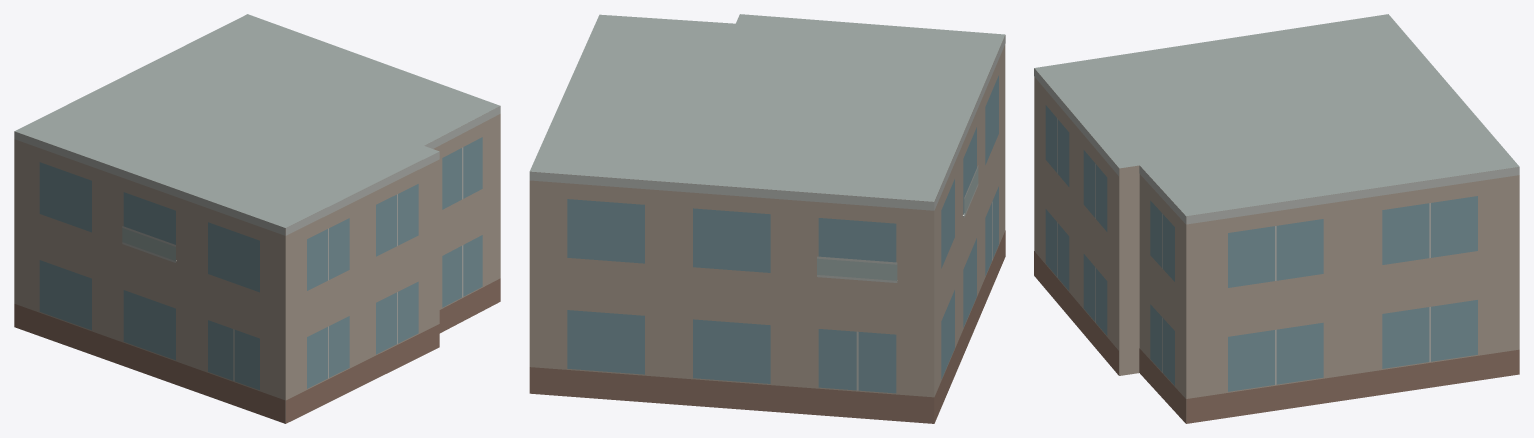
File: survey-upis-33031230.glb
3 views of the same model, side by side, from view 1: azimuth 30°, elevation 25°; view 2: azimuth 150°, elevation 25°; view 3: azimuth 270°, elevation 25° (orthographic). The views are drawn at different scales.
Visible parts, largest first — view 1: survey-upis-33031230.tmp; view 2: survey-upis-33031230.tmp; view 3: survey-upis-33031230.tmp.
Boxes of the visible parts, x1,y1,x2,y2 form: survey-upis-33031230.tmp: (14,14,500,423); survey-upis-33031230.tmp: (529,14,1005,423); survey-upis-33031230.tmp: (1034,14,1519,423).
Size of the model in its own units: 12.75 by 6.1 by 12.94.
